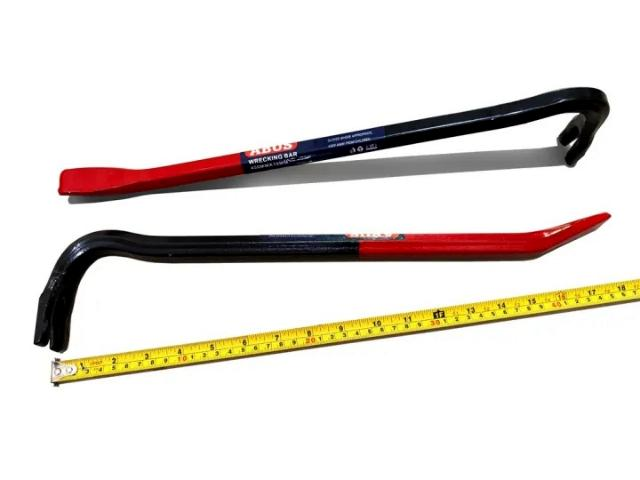crow bar: (28, 201, 617, 351), (57, 87, 603, 198)
